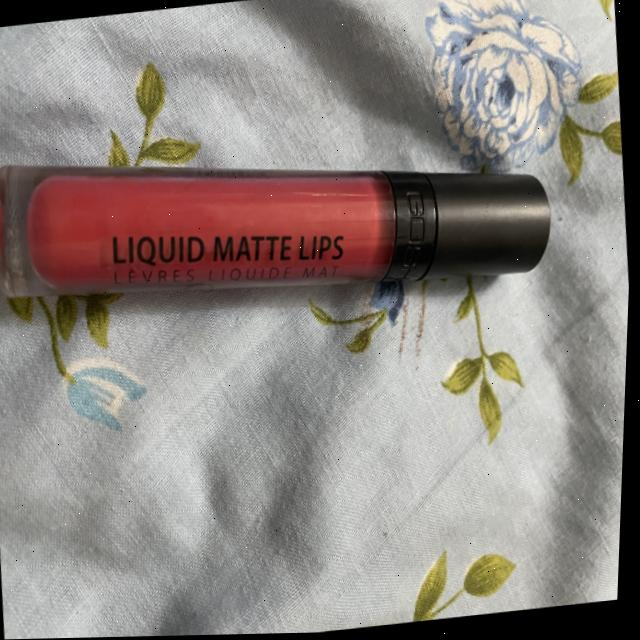lip gloss: (0, 74, 573, 369)
